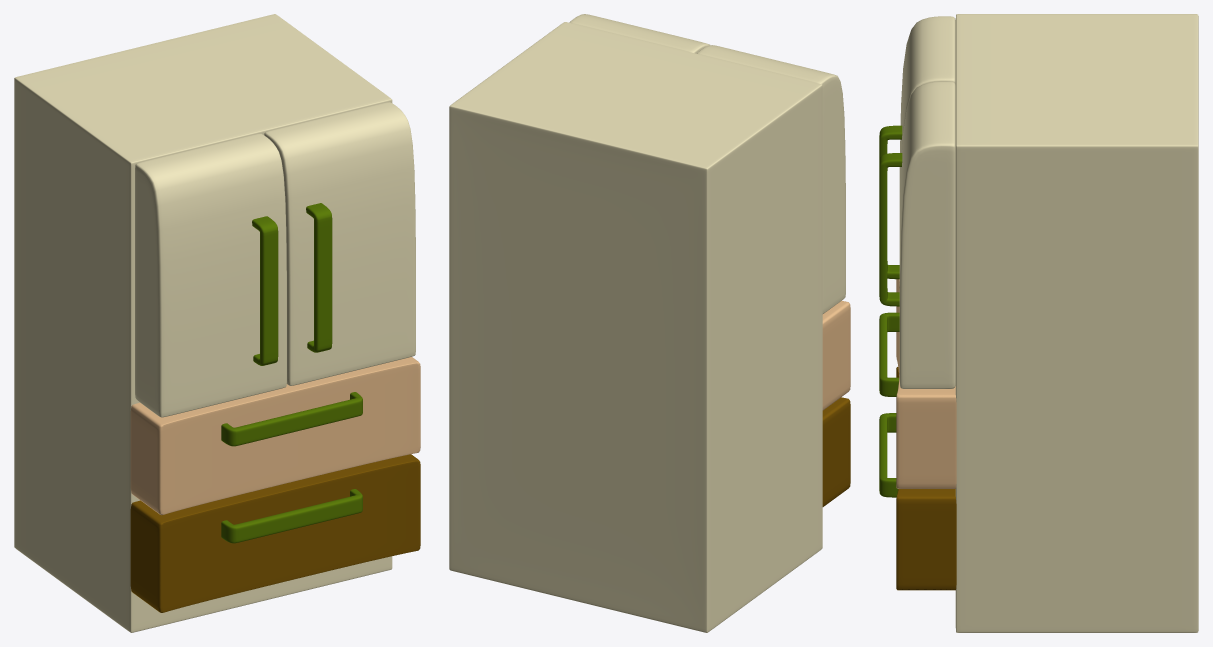
The model's file is kitchen_fridge.fbx.
3 views of the same model, side by side, from view 1: azimuth 30°, elevation 25°; view 2: azimuth 150°, elevation 25°; view 3: azimuth 270°, elevation 25° (orthographic). The views are drawn at different scales.
Visible parts, largest first — view 1: fridge_body, fridge_left_door, fridge_right_door, fridge_drawer_2, fridge_drawer_1; view 2: fridge_body, fridge_left_door, fridge_drawer_2, fridge_drawer_1, fridge_right_door; view 3: fridge_body, fridge_right_door, fridge_drawer_1, fridge_drawer_2, fridge_left_door.
Part boxes in pixels (<box>): fridge_body: <box>14,14,392,632</box>; fridge_left_door: <box>135,133,286,417</box>; fridge_right_door: <box>264,102,415,385</box>; fridge_drawer_2: <box>130,454,420,612</box>; fridge_drawer_1: <box>130,357,420,515</box>; fridge_body: <box>449,22,822,632</box>; fridge_left_door: <box>697,45,845,313</box>; fridge_drawer_2: <box>822,397,850,506</box>; fridge_drawer_1: <box>822,300,850,410</box>; fridge_right_door: <box>569,14,709,53</box>; fridge_body: <box>955,14,1198,632</box>; fridge_right_door: <box>879,81,955,388</box>; fridge_drawer_1: <box>879,279,956,488</box>; fridge_drawer_2: <box>879,367,956,590</box>; fridge_left_door: <box>879,16,955,279</box>.
Bounding box in the file's own units: 11.67 × 20.04 × 11.89.
